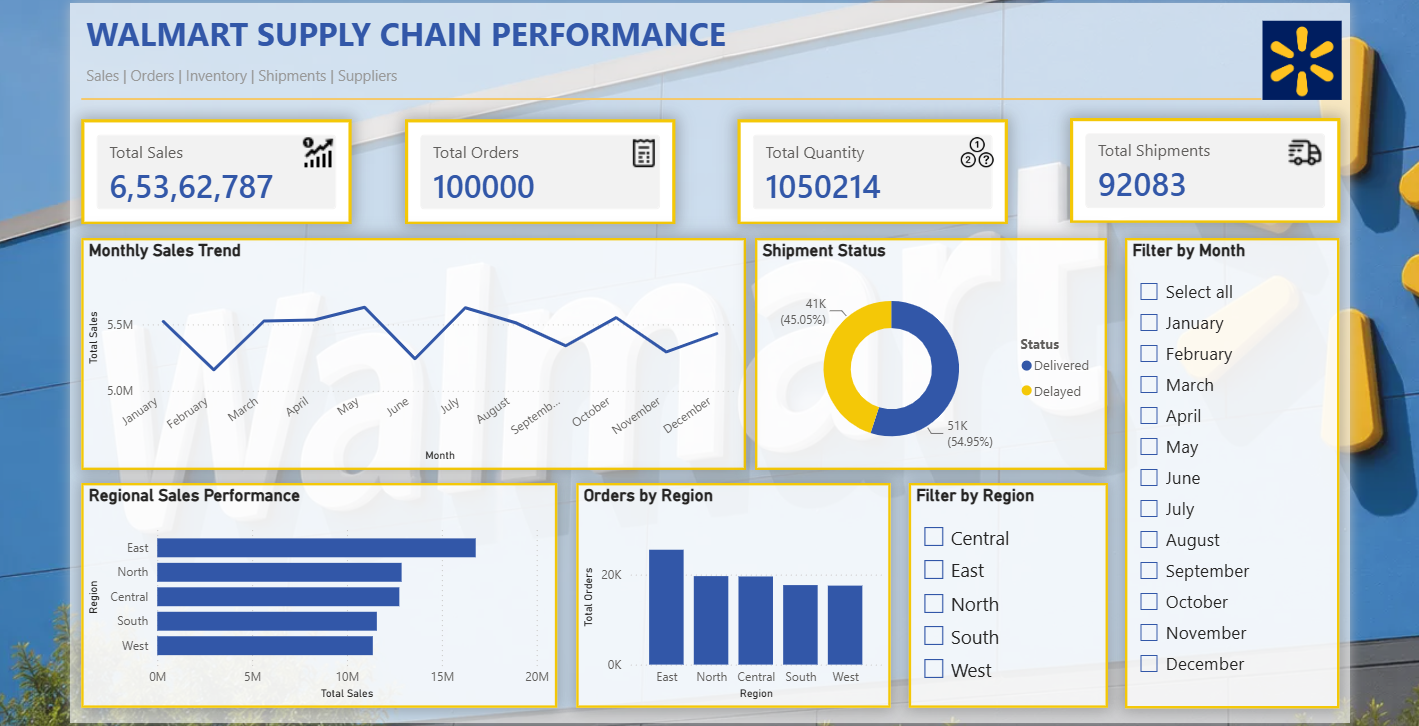

Layout of this report page (visuals, bound fields, positions):
{"tool":"powerbi","page":{"name":"Supply Chain Overview","canvas":[1280,720],"ordinal":0},"visuals":[{"type":"textbox","box":[11.2,3.8,664,54],"z":0},{"type":"cardVisual","fields":{"Data":["Orders.Total Sales"]},"box":[11.2,116.2,270,105],"z":1000},{"type":"cardVisual","fields":{"Data":["Orders.Total Orders"]},"box":[335,116.2,270,105],"z":2000},{"type":"cardVisual","fields":{"Data":["Orders.Total Quantity"]},"box":[668,116,270,105],"z":3000},{"type":"cardVisual","fields":{"Data":["Shipments.Total Shipments"]},"box":[1000,115,270,105],"z":4000},{"type":"lineChart","title":"Monthly Sales Trend","fields":{"Category":["DateTable.Date.Variation.Date Hierarchy.Month"],"Y":["Orders.Total Sales"]},"box":[11.1,235.6,664.4,232.2],"z":5000},{"type":"donutChart","title":"Shipment Status","fields":{"Category":["Shipments.Status"],"Y":["Shipments.Total Shipments"]},"box":[685.6,235.6,352.2,232.2],"z":6000},{"type":"clusteredBarChart","title":"Regional Sales Performance","fields":{"Category":["Stores.Region"],"Y":["Orders.Total Sales"]},"box":[11.2,480,476.2,225],"z":7000},{"type":"clusteredColumnChart","title":"Orders by Region","fields":{"Category":["Stores.Region"],"Y":["Orders.Total Orders"]},"box":[506,480,314,225],"z":8000},{"type":"slicer","title":"Filter by Region","fields":{"Values":["Stores.Region"]},"box":[839,480,199,225],"z":9000},{"type":"slicer","title":"Filter by Month","fields":{"Values":["DateTable.Month"]},"box":[1055.6,235.6,214.4,470],"z":10000},{"type":"textbox","box":[11.2,57.5,335.6,34.4],"z":11000},{"type":"image","box":[1192,14,79.2,87.5],"z":12000},{"type":"shape","box":[11,90,1180.3,12.1],"z":13000},{"type":"image","box":[230,131.2,35.9,36.5],"z":13001},{"type":"image","box":[557.1,132.4,32.9,35.3],"z":13002},{"type":"image","box":[890,131.2,34.1,36.5],"z":13003},{"type":"image","box":[1213.5,131.2,42.4,36.5],"z":13004}]}

Visuals, with their boxes on the page's 1280x720 design canvas (x1, y1, x2, y2). These are canvas units, not pixel positions in the 1419x726 screenshot, which may show the page scaled, cropped or inside an application window:
textbox: left=11, top=4, right=675, bottom=58
cardVisual - Orders.Total Sales: left=11, top=116, right=281, bottom=221
cardVisual - Orders.Total Orders: left=335, top=116, right=605, bottom=221
cardVisual - Orders.Total Quantity: left=668, top=116, right=938, bottom=221
cardVisual - Shipments.Total Shipments: left=1000, top=115, right=1270, bottom=220
"Monthly Sales Trend" lineChart: left=11, top=236, right=676, bottom=468
"Shipment Status" donutChart: left=686, top=236, right=1038, bottom=468
"Regional Sales Performance" clusteredBarChart: left=11, top=480, right=487, bottom=705
"Orders by Region" clusteredColumnChart: left=506, top=480, right=820, bottom=705
"Filter by Region" slicer: left=839, top=480, right=1038, bottom=705
"Filter by Month" slicer: left=1056, top=236, right=1270, bottom=706
textbox: left=11, top=58, right=347, bottom=92
image: left=1192, top=14, right=1271, bottom=102
shape: left=11, top=90, right=1191, bottom=102
image: left=230, top=131, right=266, bottom=168
image: left=557, top=132, right=590, bottom=168
image: left=890, top=131, right=924, bottom=168
image: left=1214, top=131, right=1256, bottom=168
